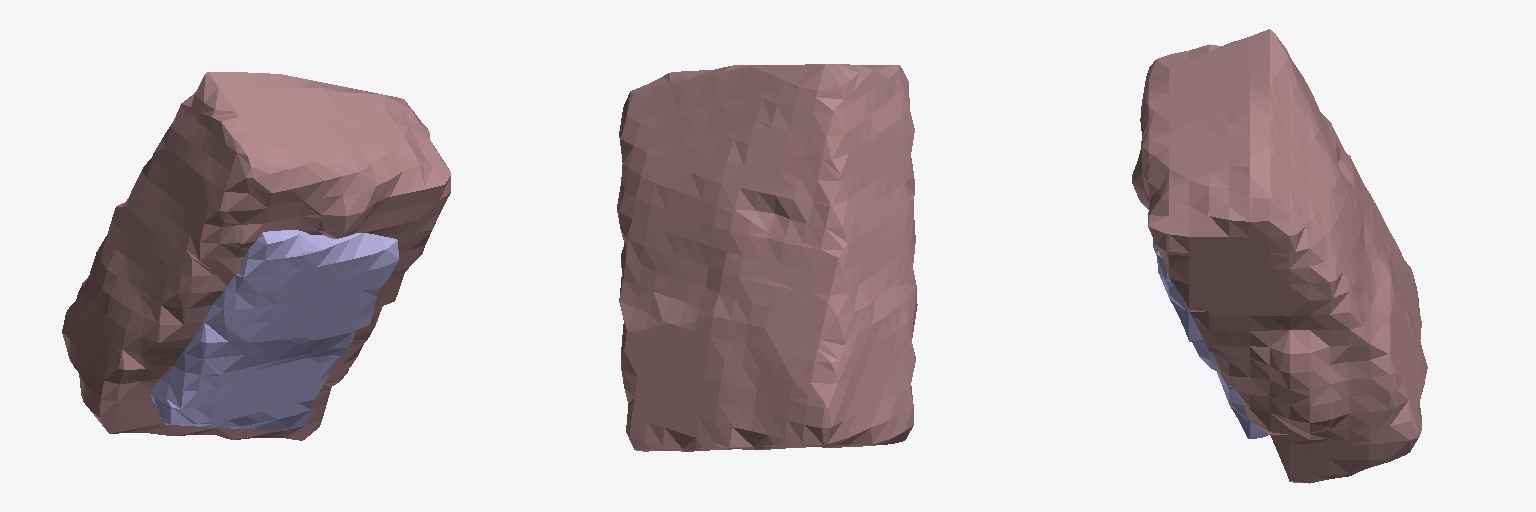
The picture shows the model from 3 angles: view 1: azimuth 30°, elevation 25°; view 2: azimuth 150°, elevation 25°; view 3: azimuth 270°, elevation 25°; orthographic projection.
Visible parts, largest first — view 1: Layer_1, Layer_2; view 2: Layer_1; view 3: Layer_1, Layer_2.
Boxes of the visible parts, x1=… form: Layer_1: x1=62, y1=72, x2=450, y2=440; Layer_2: x1=151, y1=230, x2=398, y2=429; Layer_1: x1=617, y1=64, x2=917, y2=451; Layer_1: x1=1132, y1=29, x2=1427, y2=483; Layer_2: x1=1153, y1=239, x2=1269, y2=438.
Size of the model in its own units: 13.02 by 16.58 by 11.05.
2 materials, 2 textured.